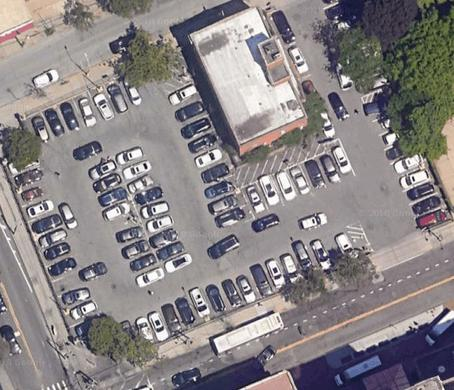parkingspot: (119, 225, 358, 346), (2, 158, 103, 342), (163, 80, 255, 233), (363, 99, 453, 235), (111, 143, 195, 277), (85, 155, 166, 289), (240, 144, 359, 220), (25, 72, 144, 147), (266, 7, 320, 101)
